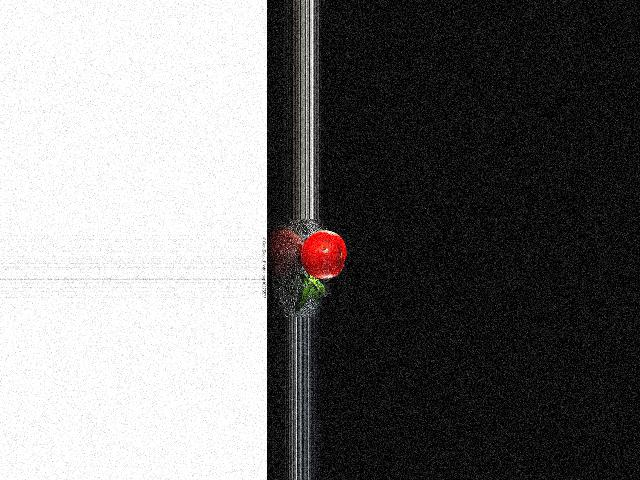tomato: (301, 230, 346, 279)
